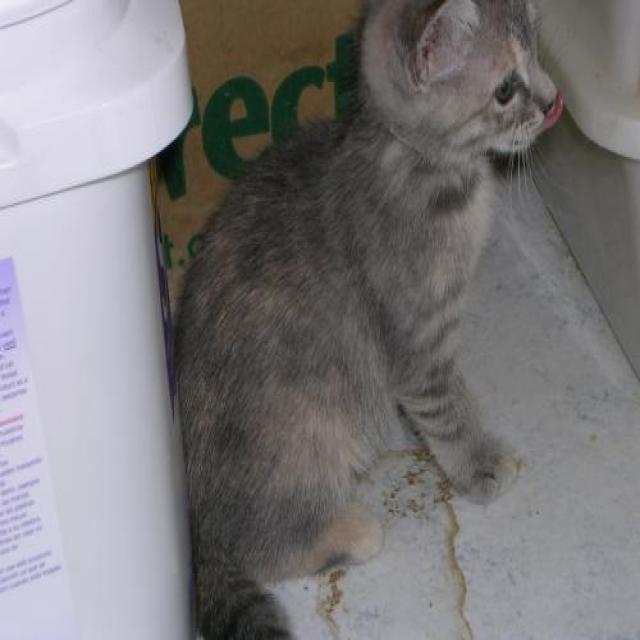Cats: (170, 0, 564, 638)
